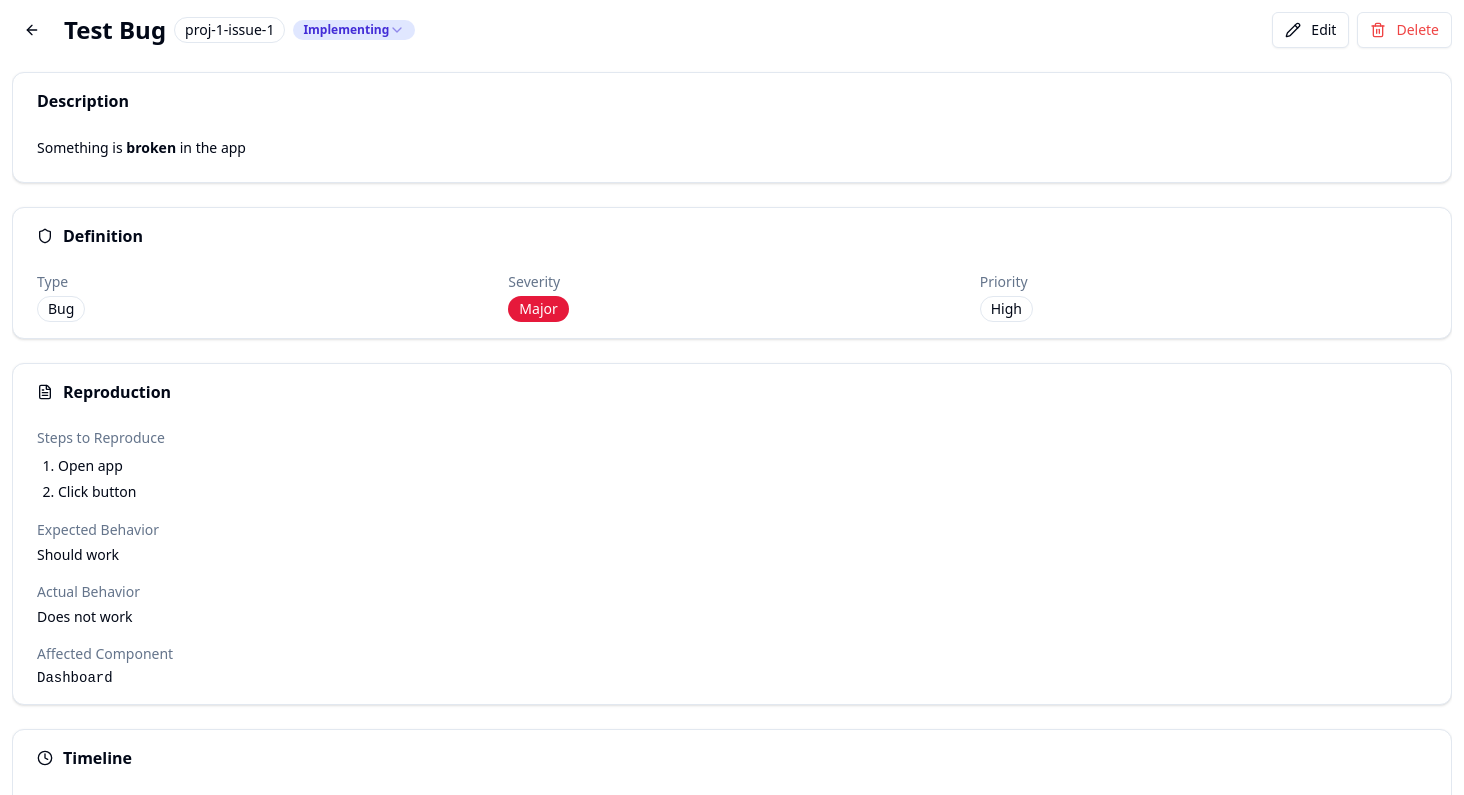
Test: IssueDetailPage › shows Edit button that toggles to edit mode with Save/Cancel
This screenshot has width=1464, height=795.
Expected: the heading "Test Bug" is shown, [64,14,166,46]
Expected: the button "save" is not shown
What coordinates should you click on to do the following:
click the button "Edit"
I would click on:
 (1311, 30)
Its box is [1272,12,1350,48].
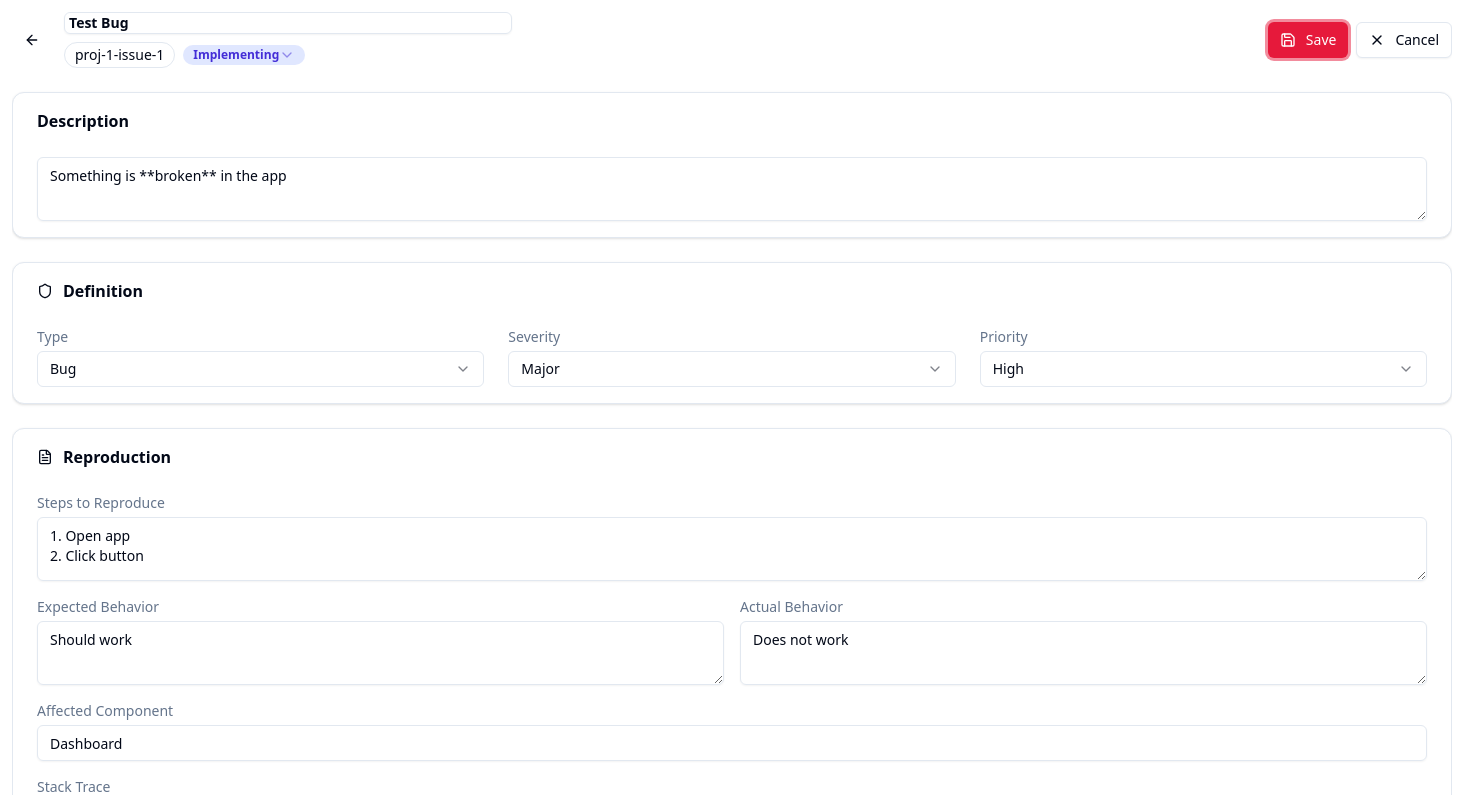
Result: the button "Save" is shown at [1268,22,1348,58]
Result: the button "Cancel" is shown at [1356,22,1452,58]
Result: the button "Edit" is gone
